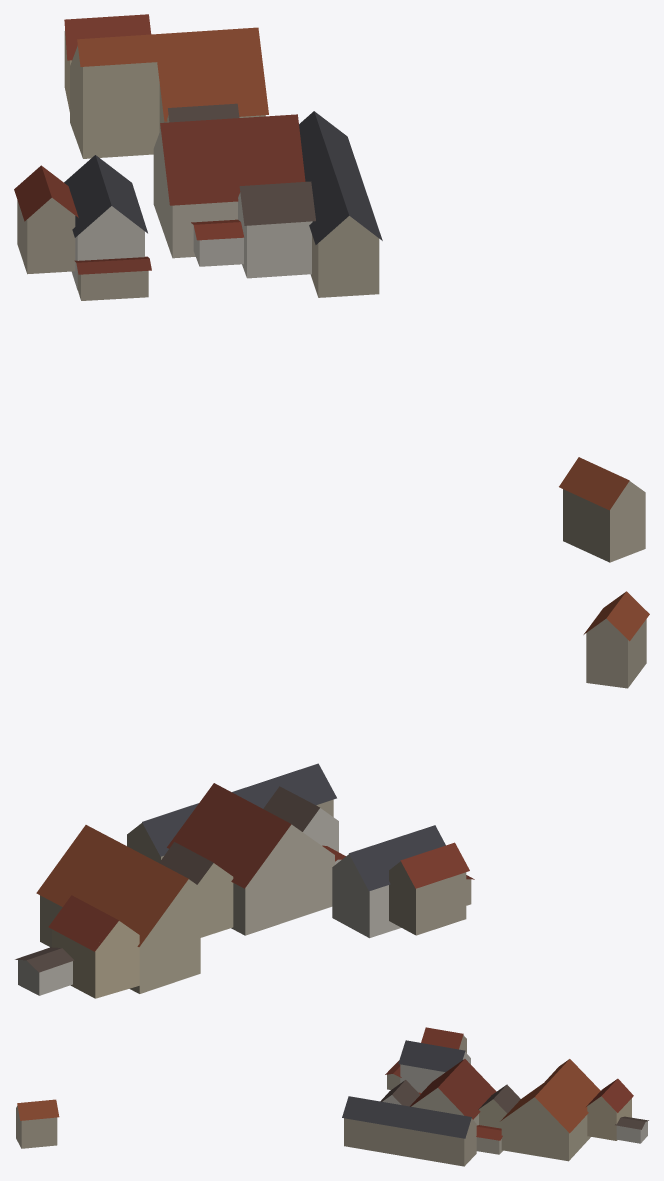
The picture shows the model from 3 angles, top to bottom: view 1: azimuth 30°, elevation 25°; view 2: azimuth 150°, elevation 25°; view 3: azimuth 270°, elevation 25°; orthographic projection. The views are drawn at different scales.
Parts seen in each view (by area): view 1: buildings; view 2: buildings; view 3: buildings.
Part boxes in pixels (x1,y1,x2,y2): buildings: [14, 14, 645, 562]; buildings: [15, 591, 649, 998]; buildings: [16, 1027, 648, 1166].
Size of the model in its own units: 40.13 by 15.59 by 117.
